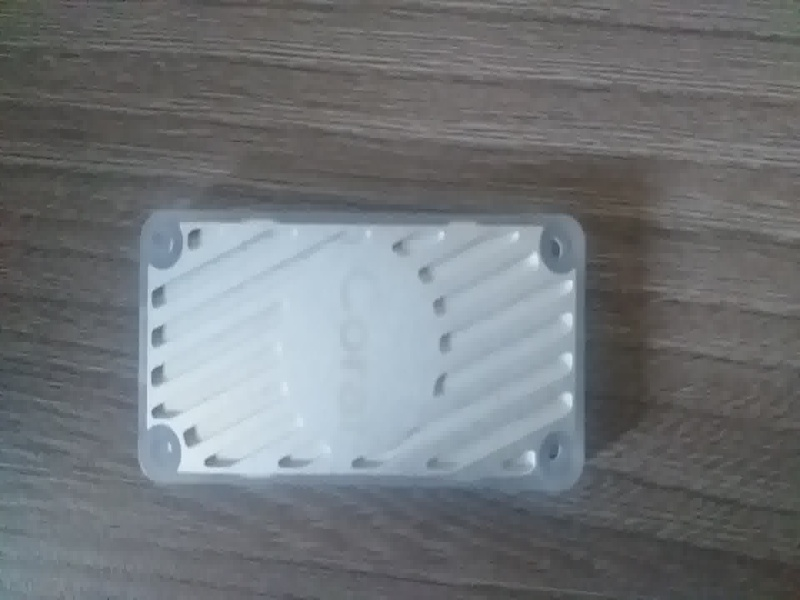coral: (130, 201, 604, 505)
